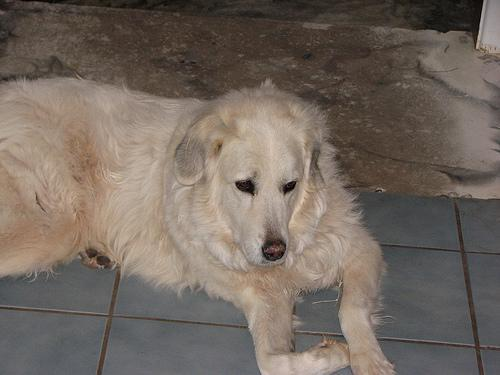Great_Pyrenees: (0, 71, 393, 374)
